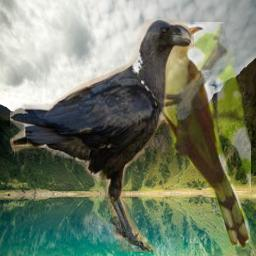Crow: (10, 19, 194, 252)
Cuckoo: (152, 22, 251, 250)
